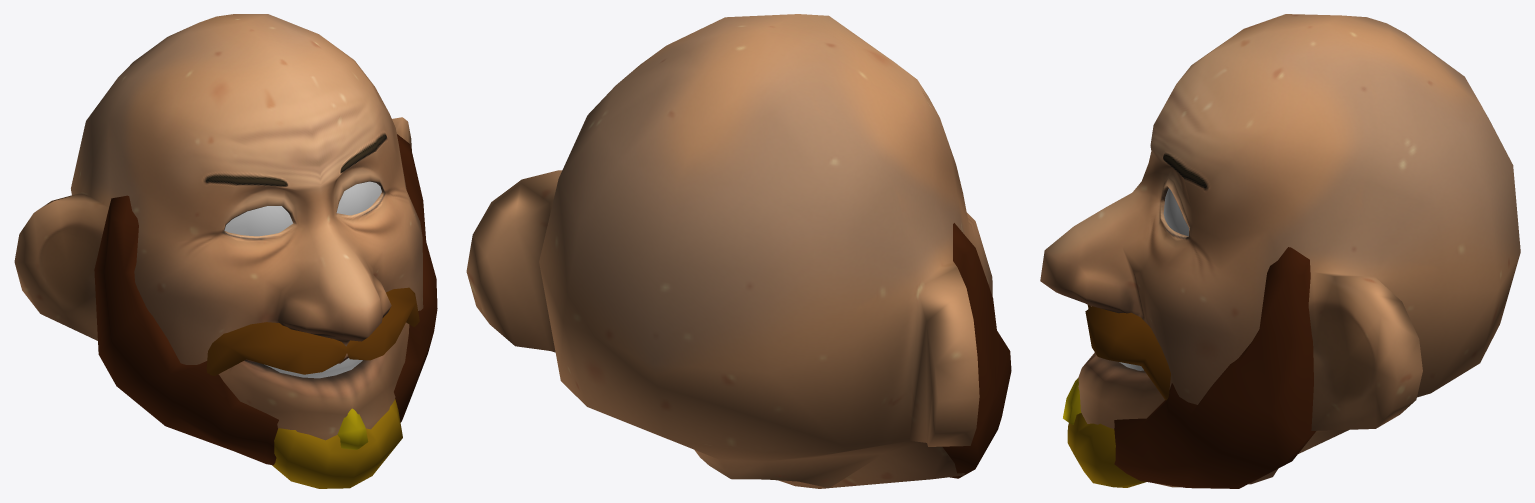
The model's file is E_pose08.fbx.
3 views of the same model, side by side, from view 1: azimuth 30°, elevation 25°; view 2: azimuth 150°, elevation 25°; view 3: azimuth 270°, elevation 25° (orthographic). The views are drawn at different scales.
Visible parts, largest first — view 1: HEAD, BEARD; view 2: HEAD, BEARD; view 3: HEAD, BEARD.
Boxes of the visible parts, x1,y1,x2,y2 form: HEAD: (14,14,423,440); BEARD: (94,134,437,488); HEAD: (466,14,992,488); BEARD: (942,223,1011,478); HEAD: (1040,14,1520,487); BEARD: (1063,247,1315,488).
Size of the model in its own units: 27.45 by 25.91 by 24.9.
